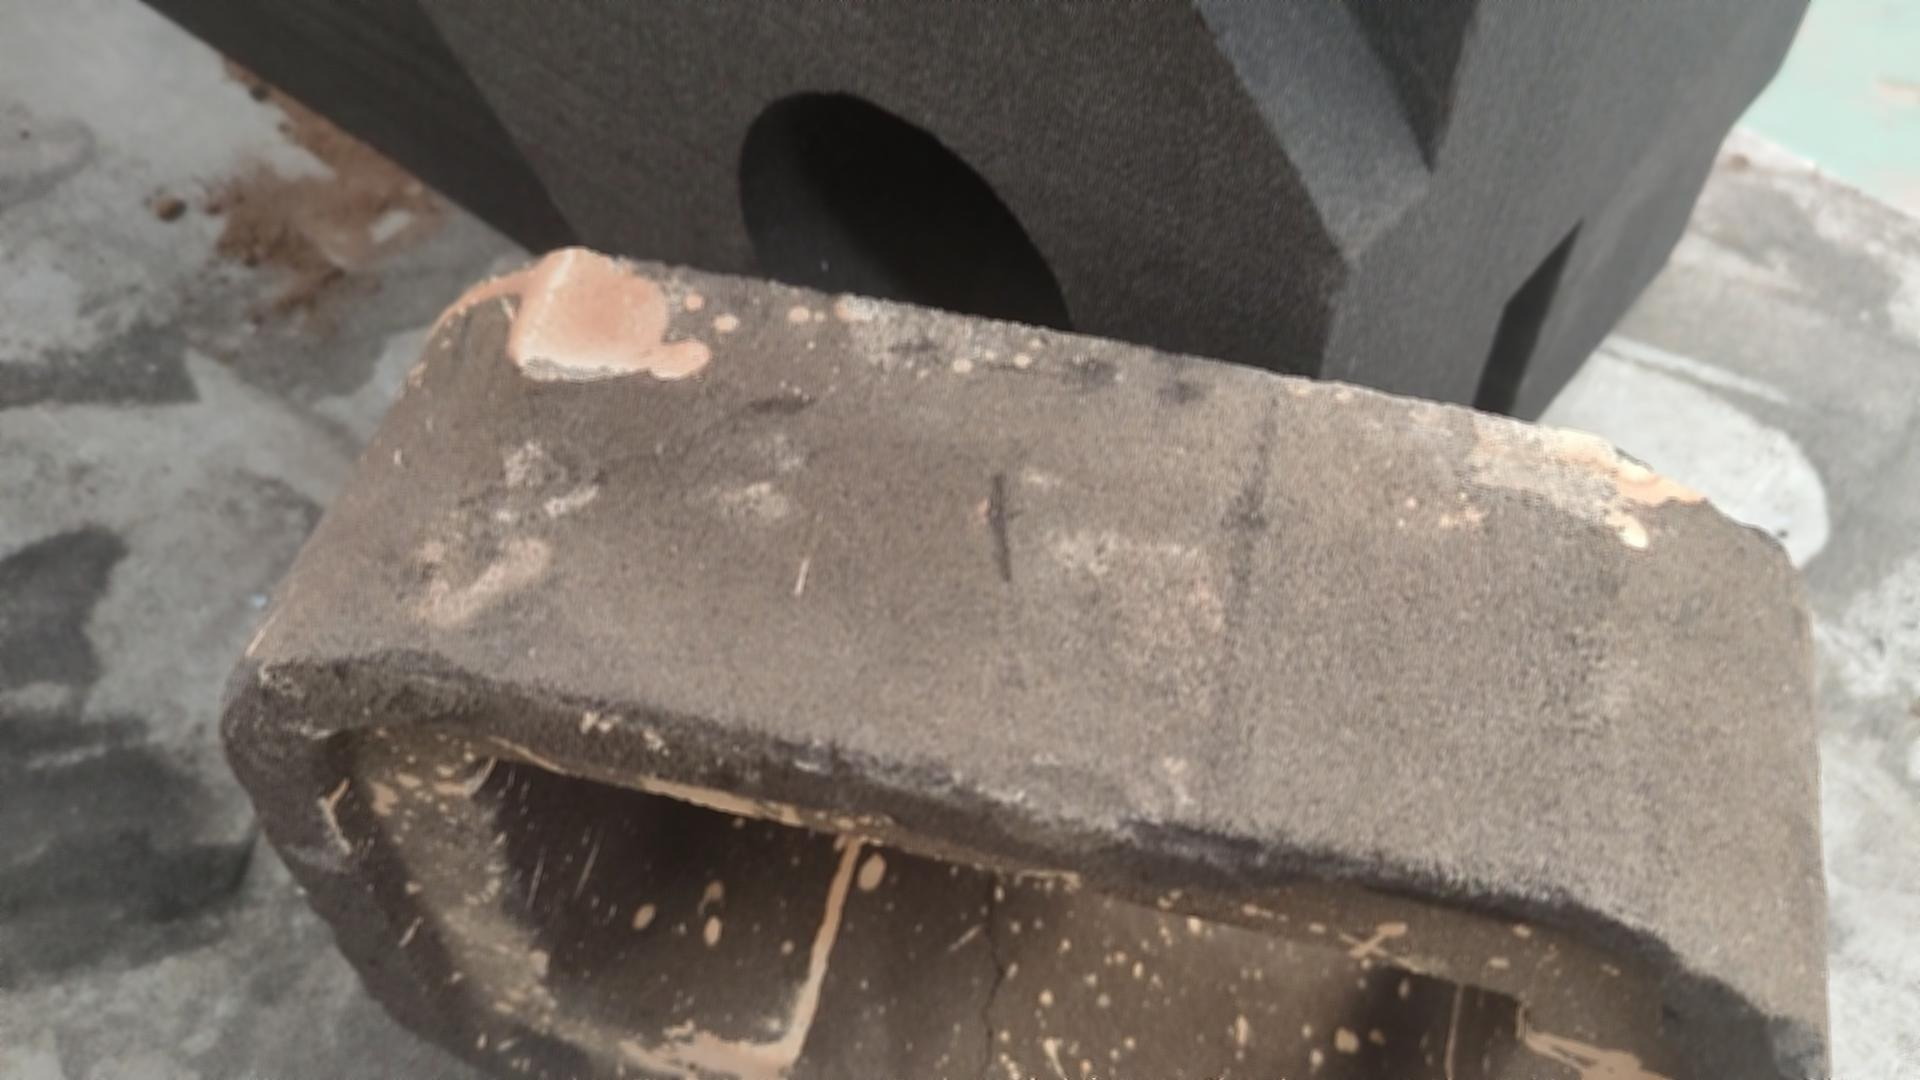pouring hole: (737, 90, 1077, 404)
